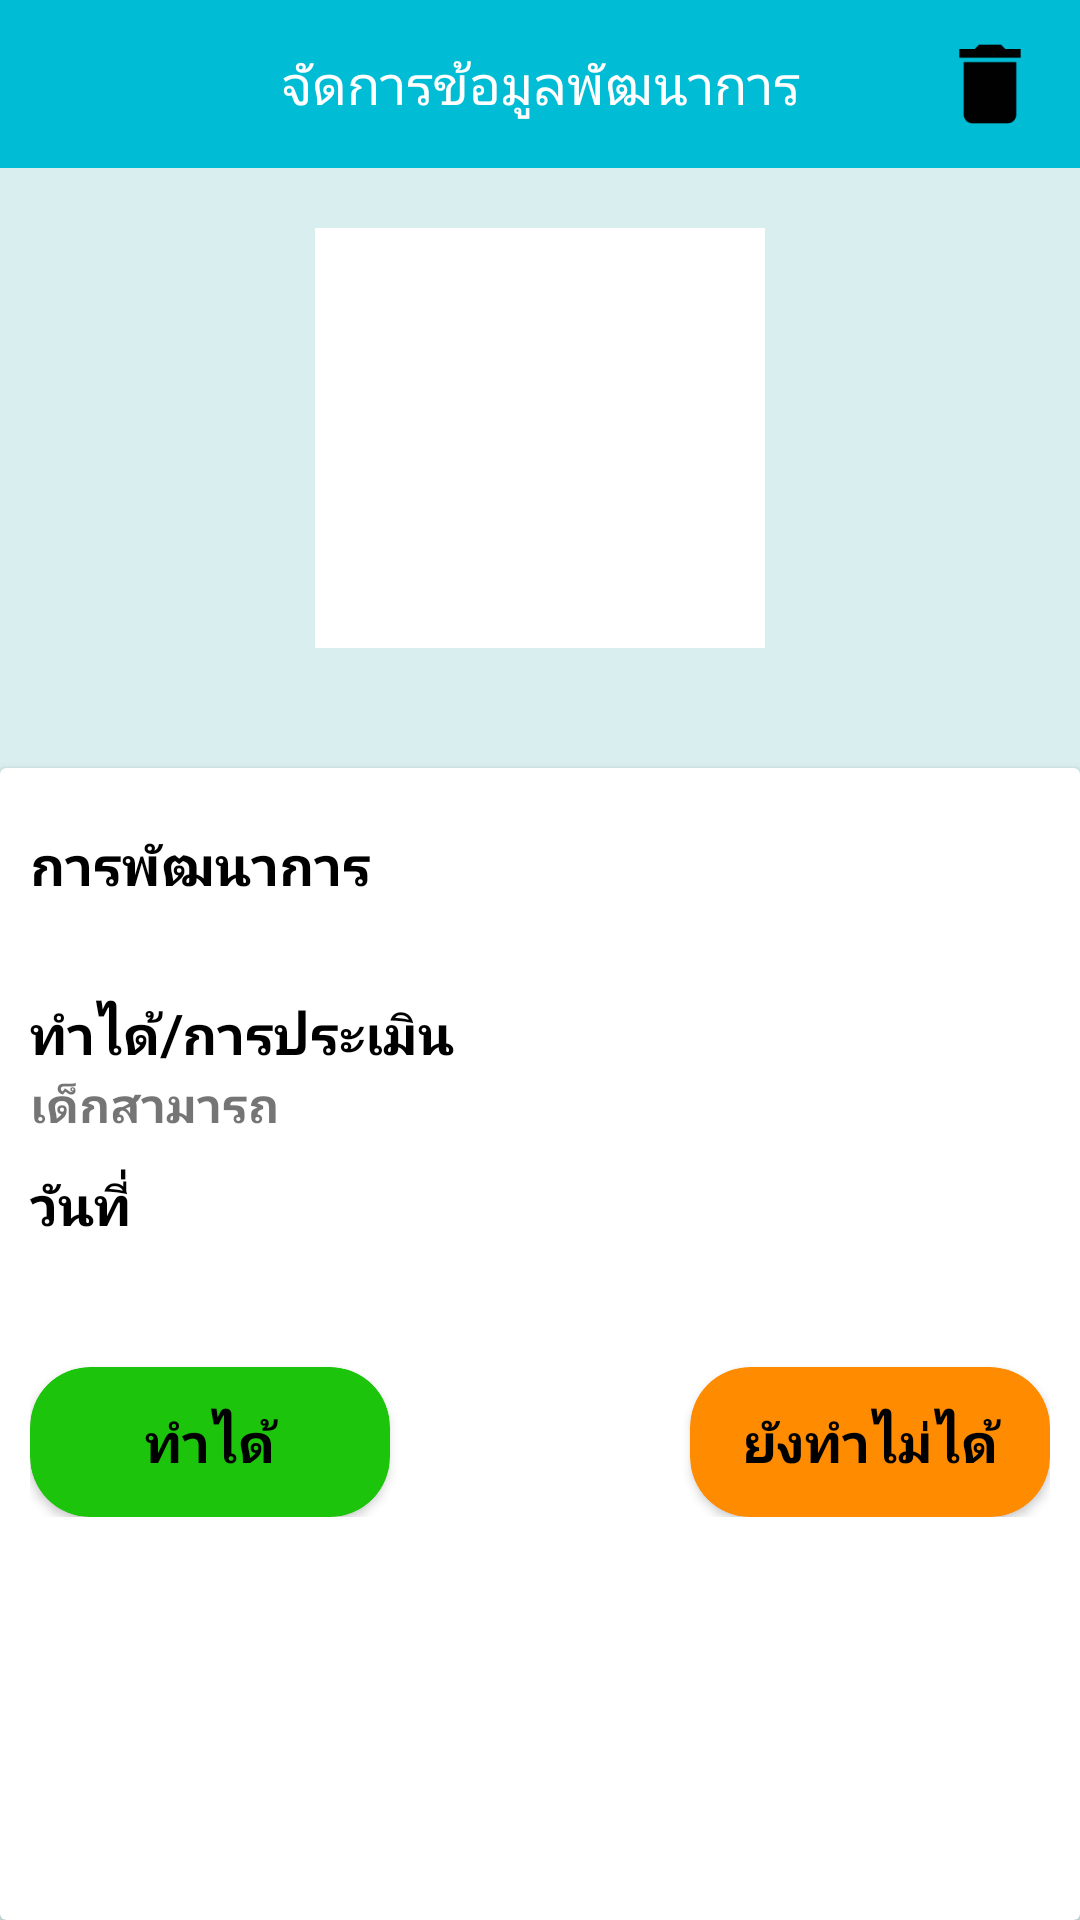

Where to tap for icons on this 1080px×1920px app screen, as (x=x, y=y):
delete: (x=990, y=84)
